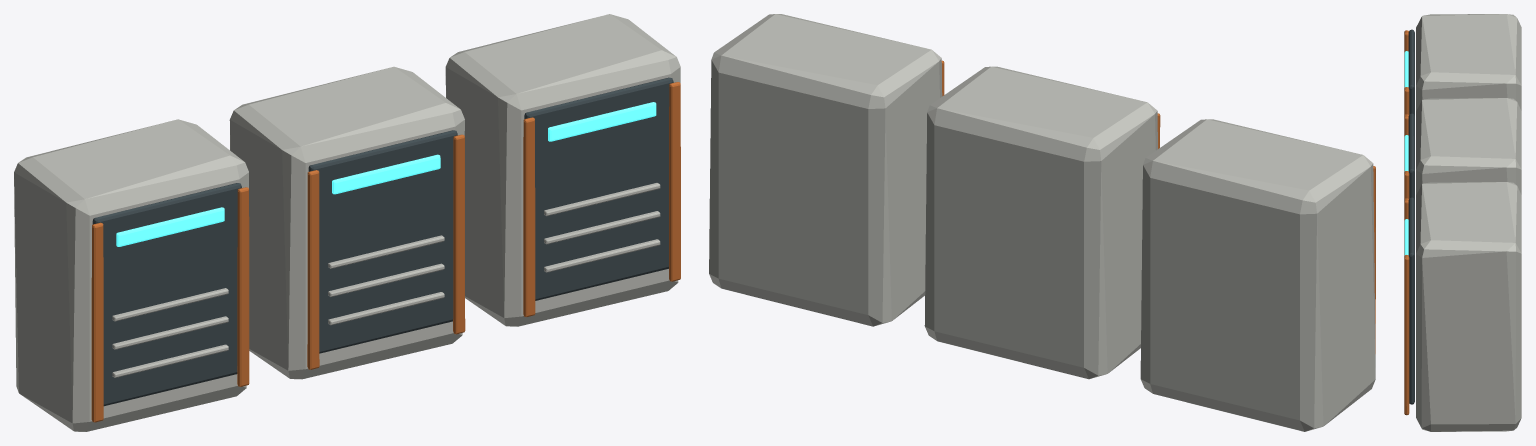
The model's file is power-equipment.glb.
3 renders of one model, left to right at view 1: azimuth 30°, elevation 25°; view 2: azimuth 150°, elevation 25°; view 3: azimuth 270°, elevation 25°, orthographic. The views are drawn at different scales.
Parts seen in each view (by area): view 1: power-equipment; view 2: power-equipment; view 3: power-equipment.
Boxes of the visible parts, bbox=[...] form: power-equipment: bbox=[14, 14, 680, 431]; power-equipment: bbox=[709, 14, 1375, 431]; power-equipment: bbox=[1404, 14, 1521, 431].
Bounding box in the file's own units: 4.53 × 1.7 × 0.945.
